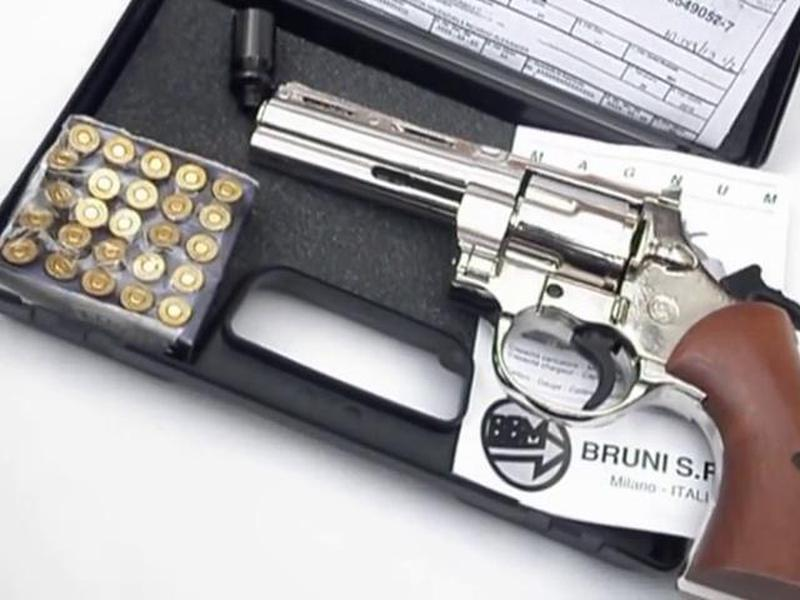Revolver: (240, 51, 799, 526)
